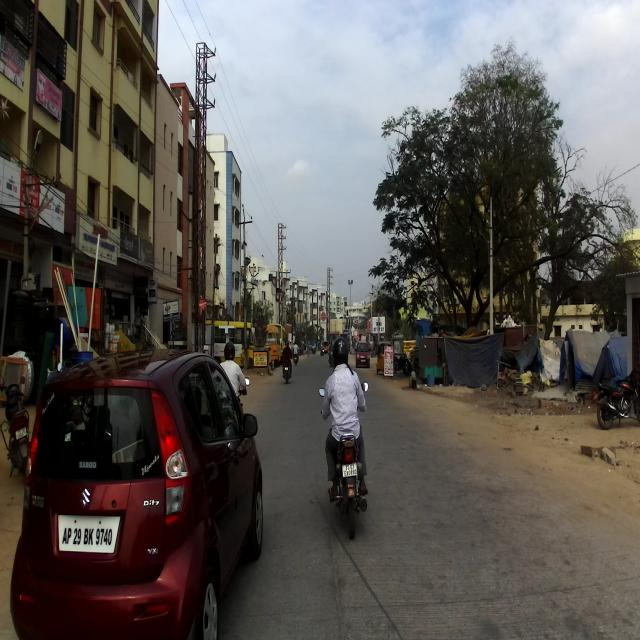car ahead at: (19, 347, 275, 635)
motorcycle ahead at: (311, 428, 373, 527)
